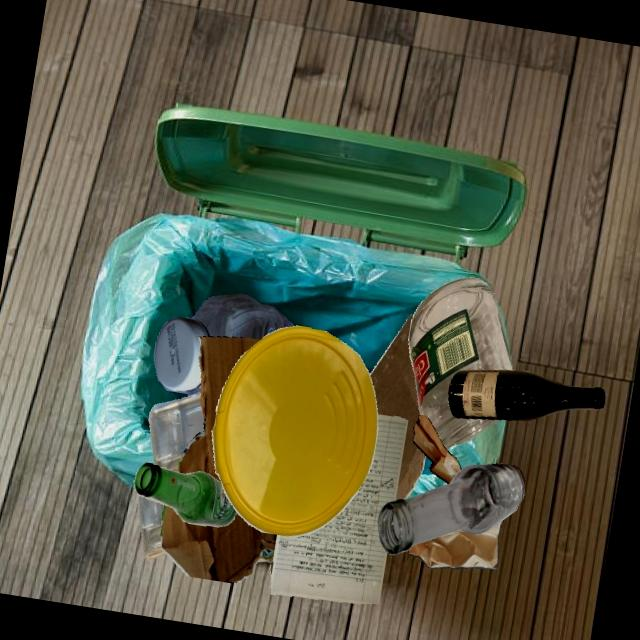cardboard: (178, 336, 260, 483), (370, 315, 426, 500), (161, 505, 277, 582)
glass: (408, 277, 513, 450), (377, 464, 525, 555), (448, 370, 605, 421), (134, 462, 236, 527), (295, 596, 321, 600), (270, 564, 273, 578)
paper: (271, 415, 408, 604), (408, 519, 503, 570), (412, 415, 461, 484), (256, 555, 274, 564)
plastic: (212, 326, 378, 537), (154, 294, 294, 396), (149, 392, 204, 472), (137, 495, 166, 560)
